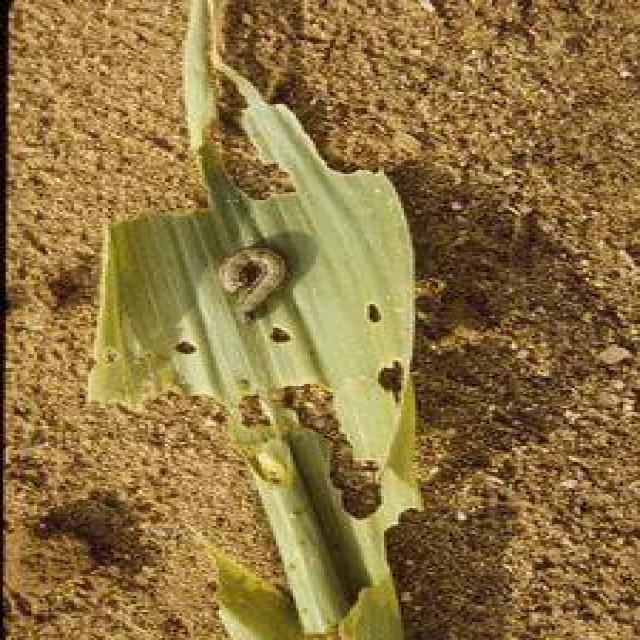BeetArmyWorm-Larva-: (203, 244, 308, 328)
